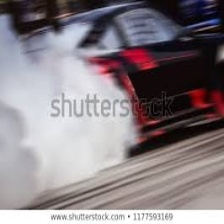smoke: (2, 76, 109, 201)
